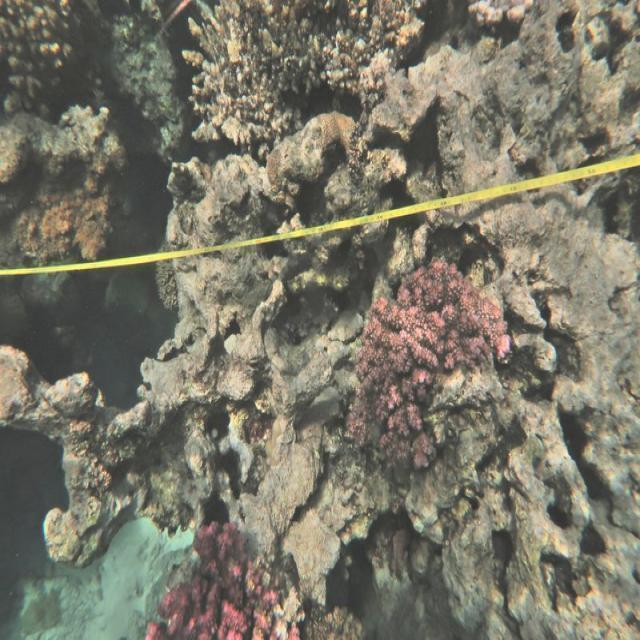Healthy Coral: (357, 247, 502, 469), (158, 527, 311, 640)
